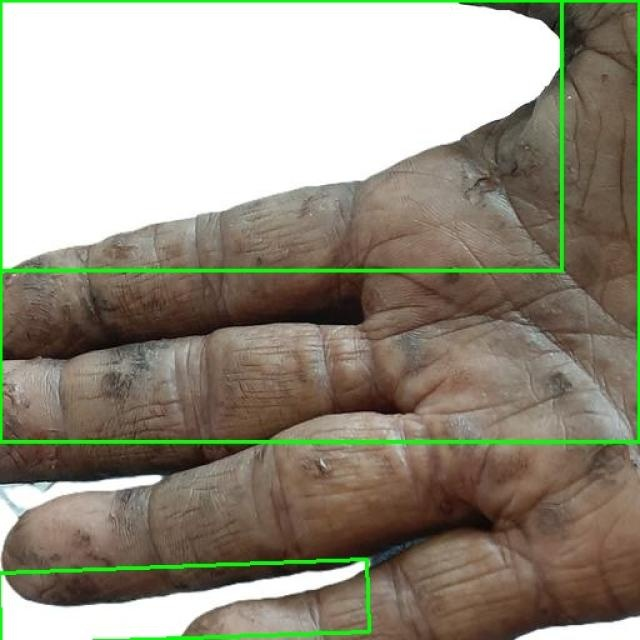Eczema: (0, 0, 639, 441), (0, 0, 561, 270), (0, 560, 370, 640)
